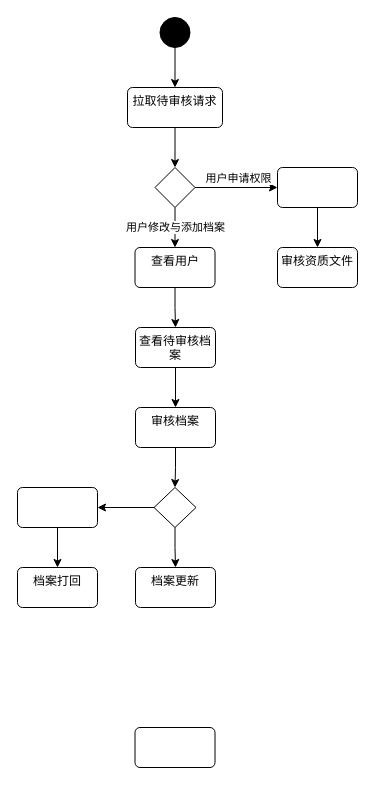
The diagram is 375 pixels wide and 785 high, and some of its shapes have lost their labels. The centre of each missing label's shape, as x and y in pixels:
"下载用户资质文件" goes at point (317, 187).
"填写打回原因和建议" goes at point (57, 507).
"增加审核记录" goes at point (174, 747).
